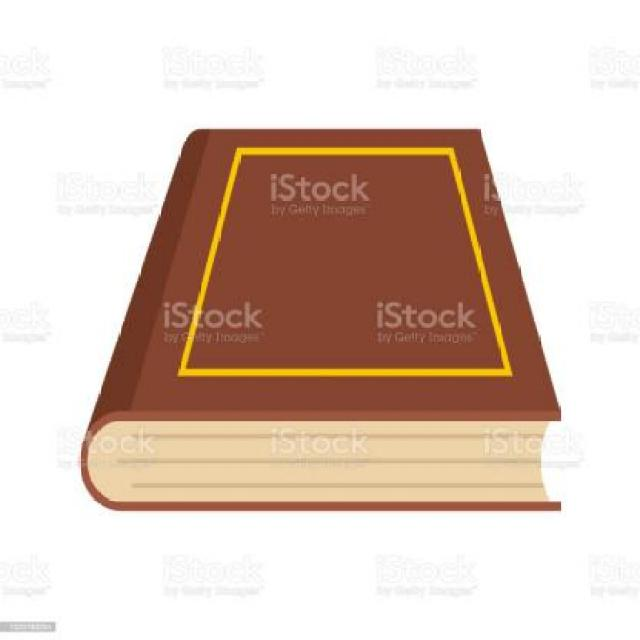book: (70, 61, 596, 571)
